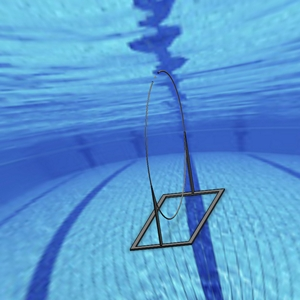circle: (128, 68, 226, 251)
